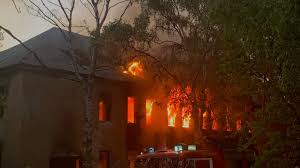fire: (111, 61, 257, 132)
